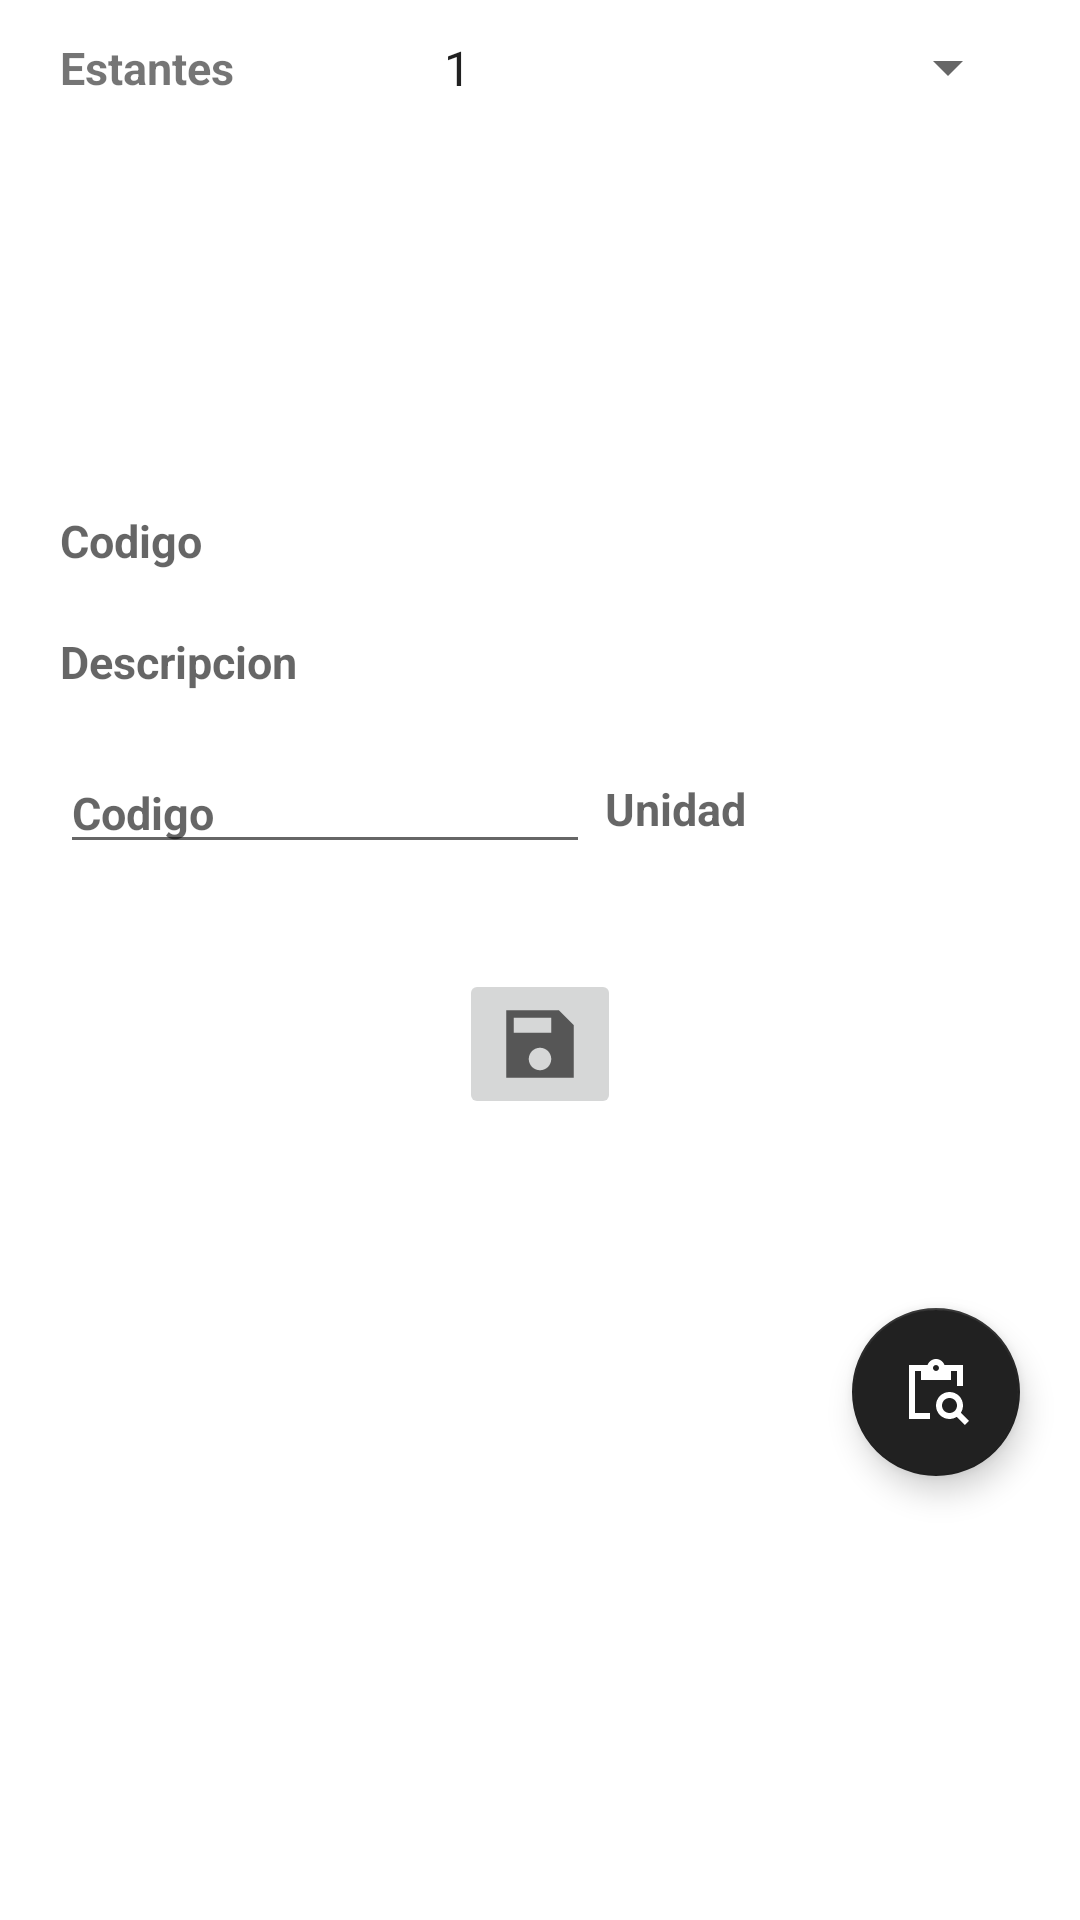

Screen size 1080*1920. Icon name, then its box in pixels as {"left": x1, "top": y1, "right": x2, "bottom": y2}:
paste search: {"left": 852, "top": 1308, "right": 1020, "bottom": 1476}
save: {"left": 471, "top": 987, "right": 609, "bottom": 1101}
